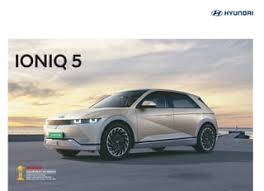Honda Ioniq: (41, 83, 224, 164)
